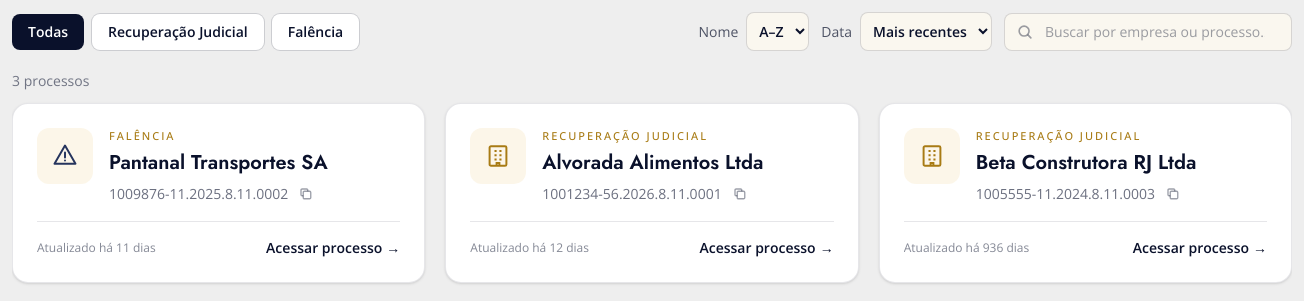
Test case: CompanyPanel › sorts by name Z-A
The image size is (1304, 301).
Select "Z–A" in the dropdown named "Ordenar por nome" at (778, 32), box [746, 12, 809, 51]
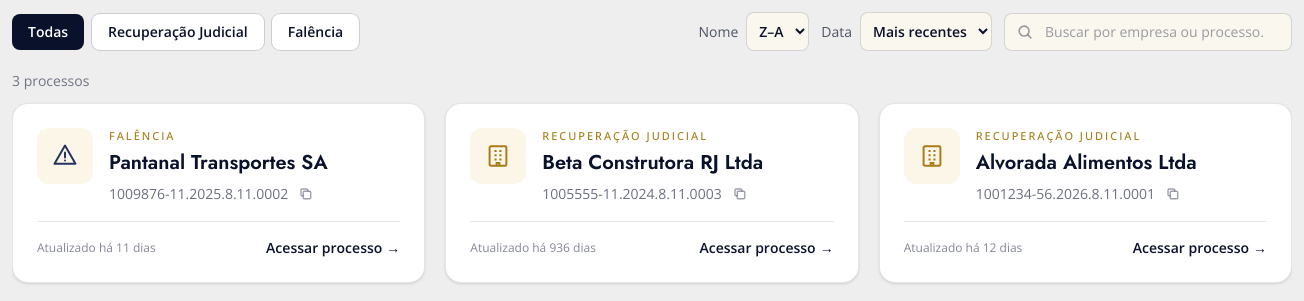
Expected: the headings read "Pantanal Transportes SA", "Beta Construtora RJ Ltda", "Alvorada Alimentos Ltda", in this order, [109, 148, 328, 176]; [542, 148, 763, 176]; [976, 148, 1197, 176]
